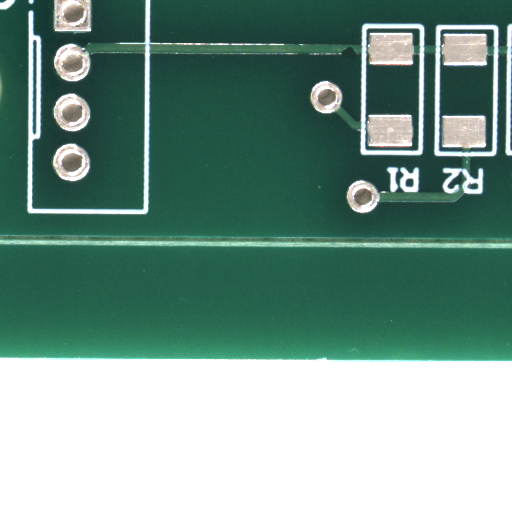Mouse_bite: (349, 52, 364, 64)
